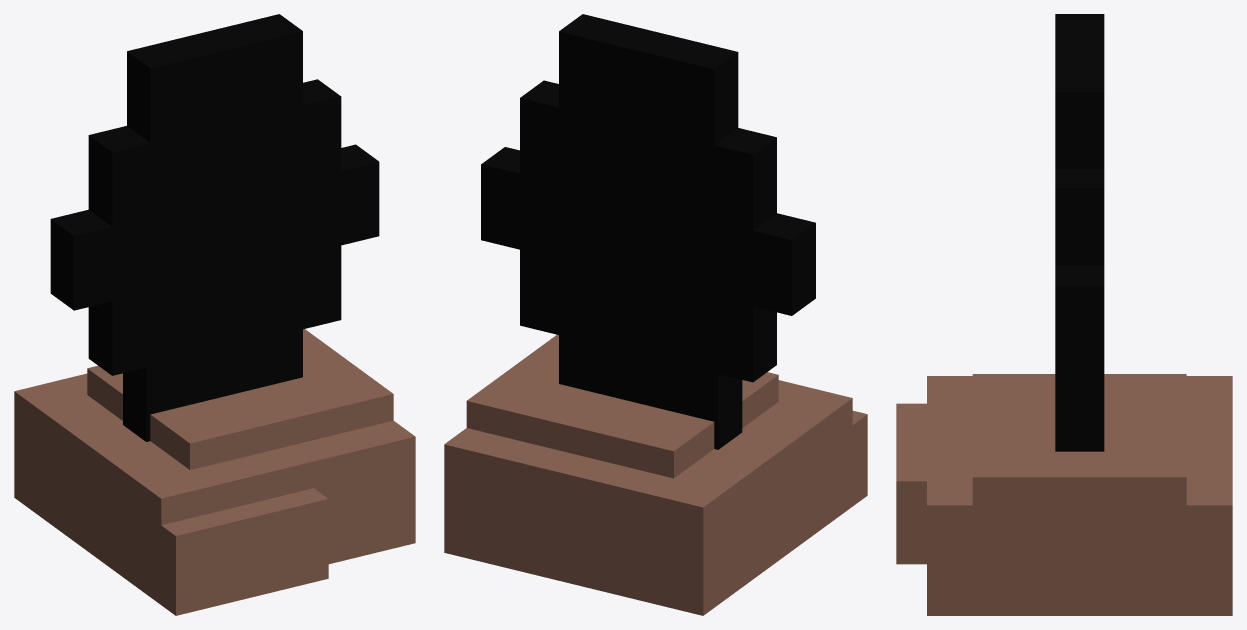
Rendered from FanCoral_Cyan.obj.
The picture shows the model from 3 angles, left to right: view 1: azimuth 30°, elevation 25°; view 2: azimuth 150°, elevation 25°; view 3: azimuth 270°, elevation 25°; orthographic projection. The views are drawn at different scales.
Parts seen in each view (by area): view 1: FanCoral_Cyan; view 2: FanCoral_Cyan; view 3: FanCoral_Cyan.
Boxes of the visible parts, x1,y1,x2,y2 form: FanCoral_Cyan: [14, 14, 415, 615]; FanCoral_Cyan: [444, 14, 867, 615]; FanCoral_Cyan: [896, 14, 1232, 615].
Bounding box in the file's own units: 6 × 9 × 5.5.
